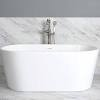bathub: (1, 41, 100, 93)
